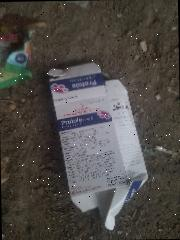paper: (48, 61, 149, 231)
